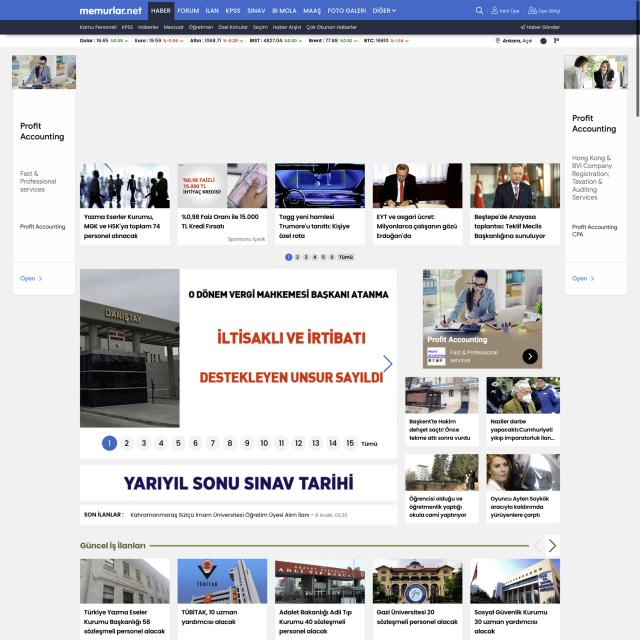logo: (79, 5, 145, 17)
navigation: (80, 22, 358, 32)
